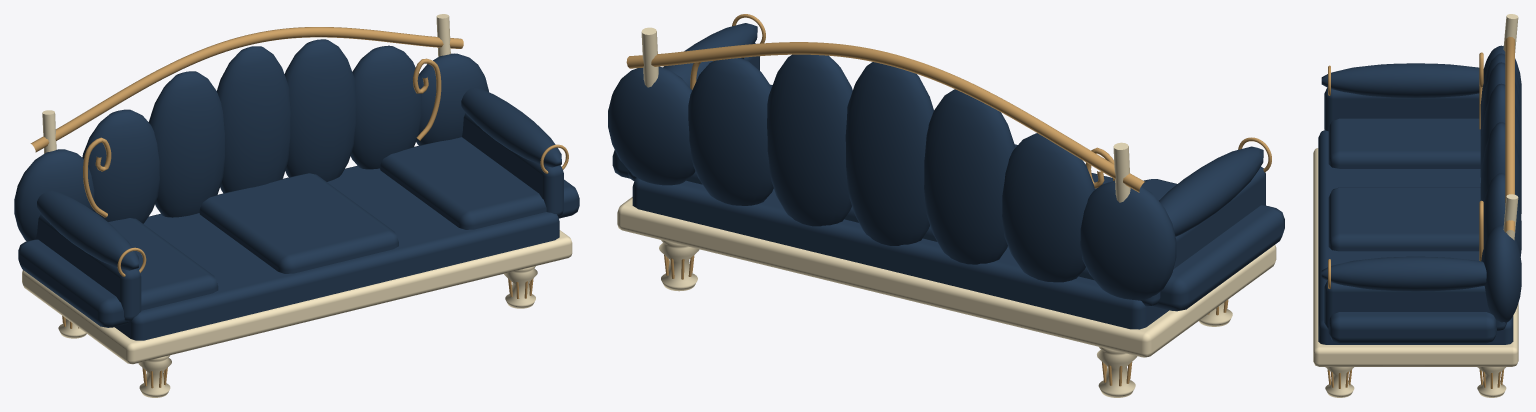
File: sofa_palais-771c8f4e91e9.glb
The picture shows the model from 3 angles, left to right: view 1: azimuth 30°, elevation 25°; view 2: azimuth 150°, elevation 25°; view 3: azimuth 270°, elevation 25°; orthographic projection. The views are drawn at different scales.
Parts seen in each view (by area): view 1: surface_navy, surface_ivory, surface_brass; view 2: surface_navy, surface_ivory, surface_brass; view 3: surface_navy, surface_ivory, surface_brass.
Boxes of the visible parts, left/top/right/bottom form: surface_navy: left=14, top=39, right=579, bottom=340; surface_ivory: left=22, top=14, right=572, bottom=397; surface_brass: left=30, top=27, right=568, bottom=388; surface_navy: left=608, top=23, right=1284, bottom=329; surface_ivory: left=617, top=27, right=1276, bottom=397; surface_brass: left=626, top=14, right=1271, bottom=386; surface_navy: left=1318, top=45, right=1521, bottom=344; surface_ivory: left=1313, top=14, right=1518, bottom=397; surface_brass: left=1327, top=36, right=1514, bottom=388.
Bounding box in the file's own units: 2.08 × 1.01 × 0.833.
